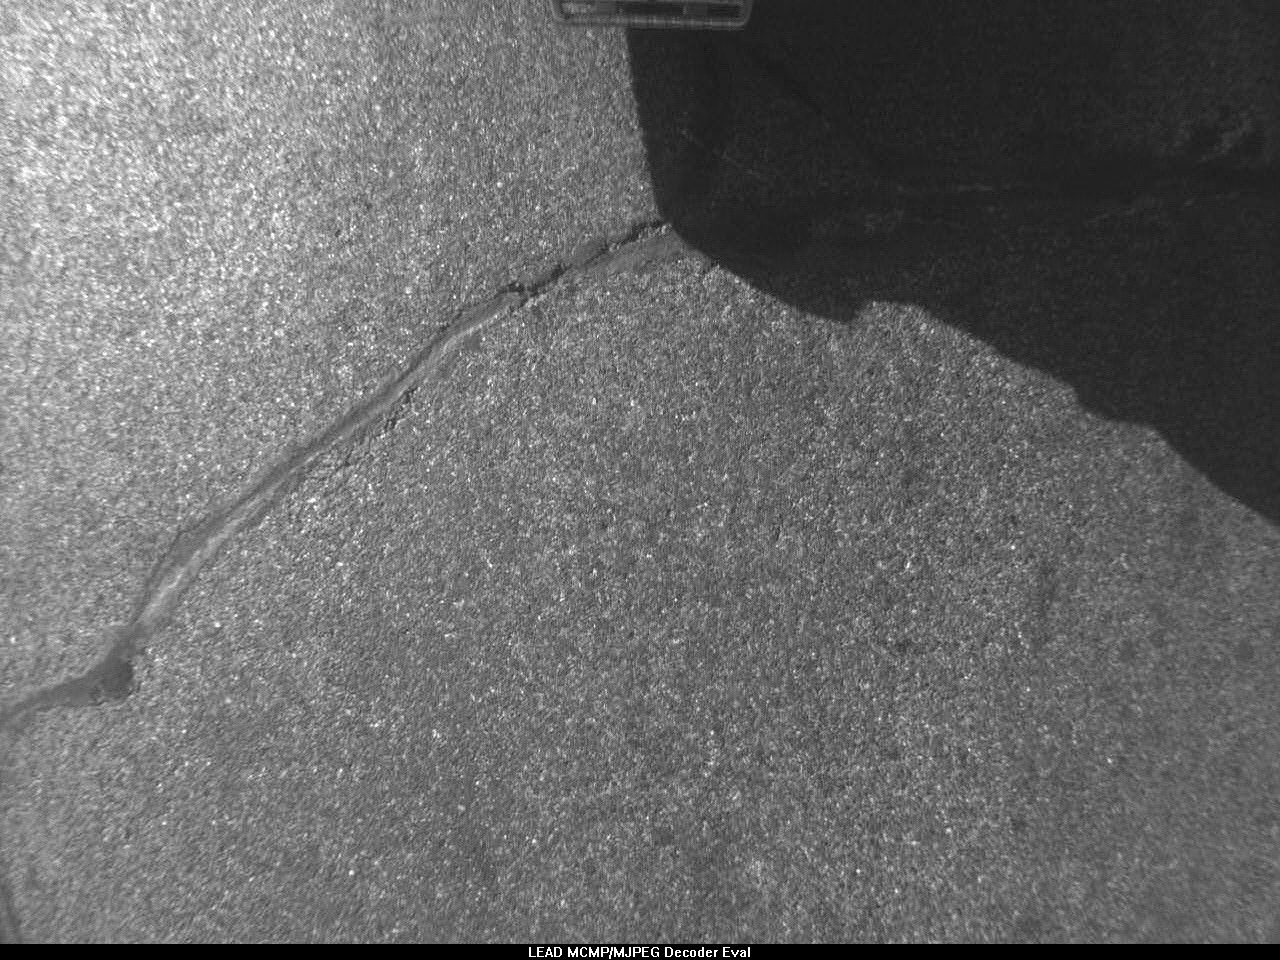sealed: (1, 206, 660, 737)
